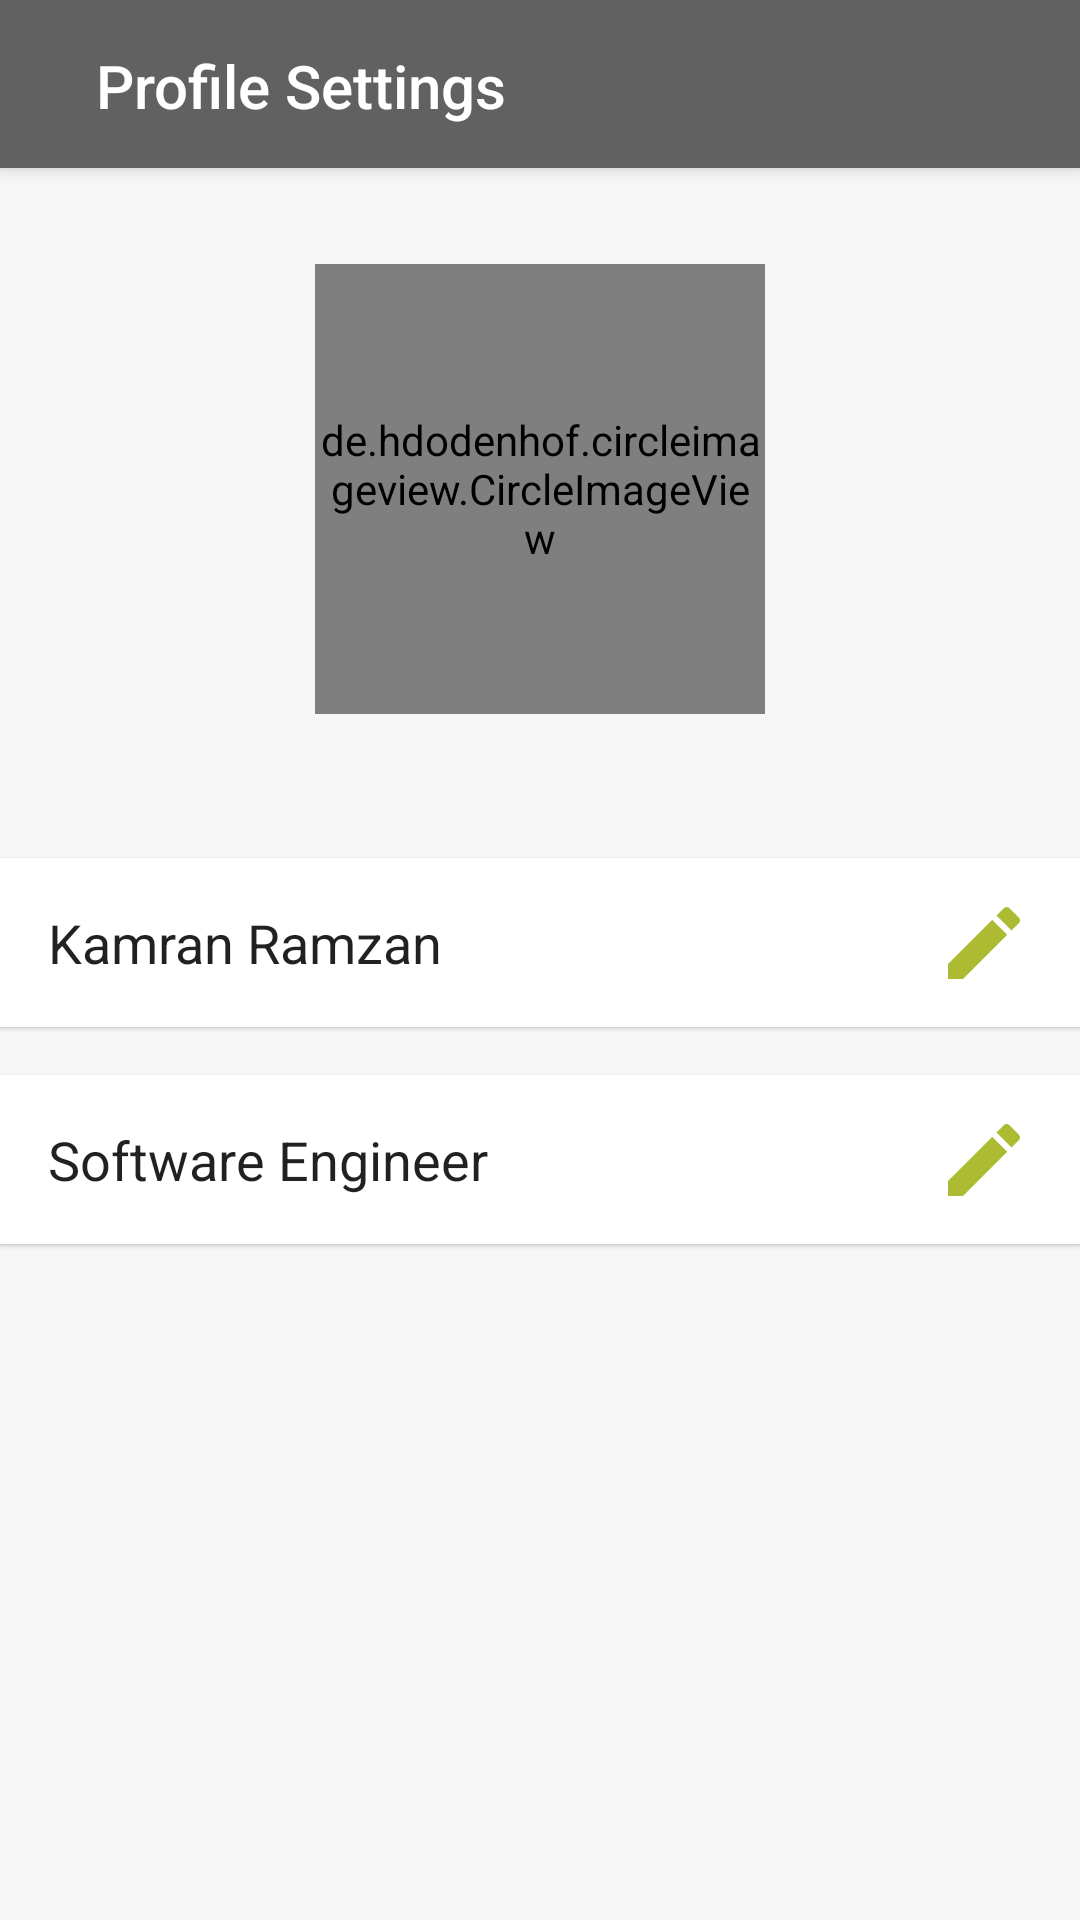

Where icons sit on this 1080*1920 app screen, as (x1, y1, x2, y2):
edit: (948, 907, 1020, 979), (948, 1124, 1020, 1196)
